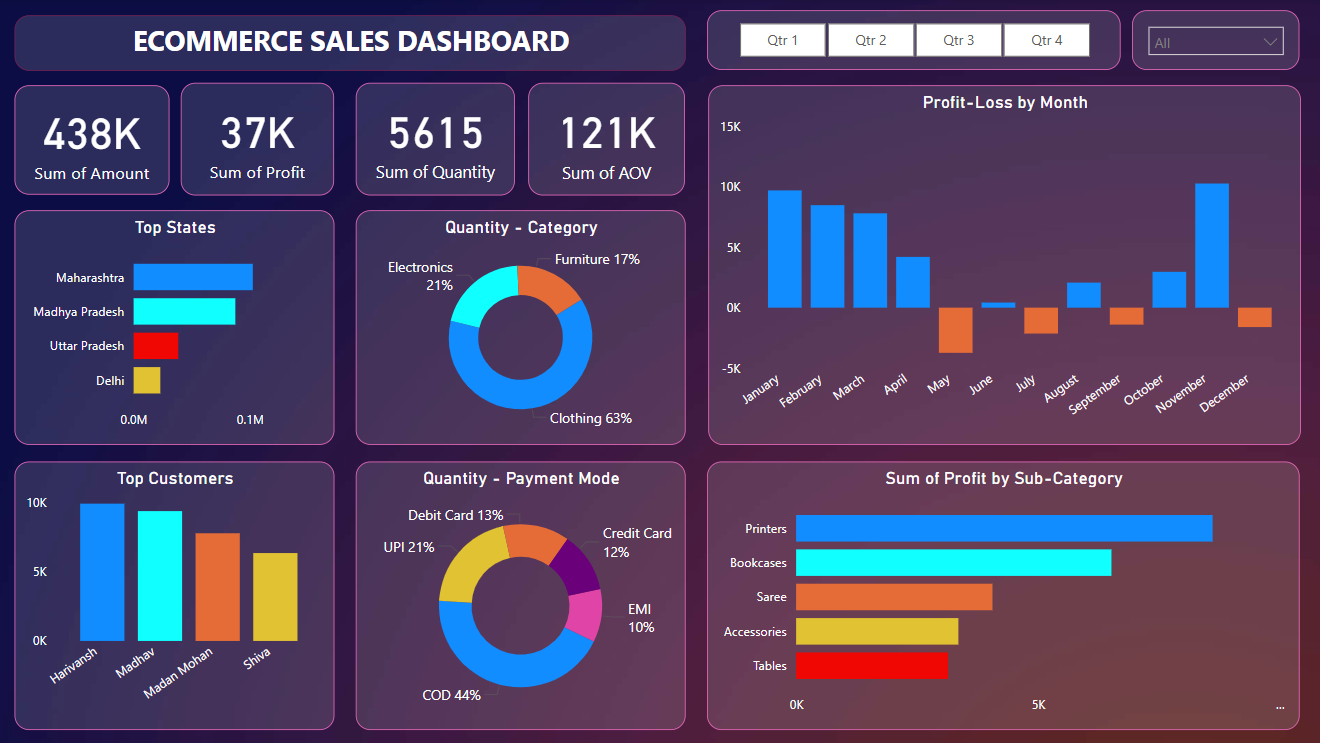

This screenshot's page, from the dashboard's own definition file:
{"tool":"powerbi","page":{"name":"Page 1","canvas":[1280,720],"ordinal":0},"visuals":[{"type":"textbox","title":"ECOMMERCE SALES DASHBOARD","box":[16.5,15.1,647.7,53.5],"z":0},{"type":"columnChart","title":"Profit-Loss by Month","fields":{"Y":["Sum(Details.Profit)"],"Category":["Orders.Order Date.Variation.Date Hierarchy.Month"]},"box":[686.1,83.7,572.2,347.2],"z":1000},{"type":"clusteredBarChart","fields":{"Category":["Details.Sub-Category"],"Y":["Sum(Details.Profit)"]},"box":[684.7,446,572.2,259.3],"z":2000},{"type":"donutChart","title":"Quantity - Category","fields":{"Y":["Sum(Details.Quantity)"],"Category":["Details.Category"]},"box":[345.8,204.5,318.4,226.4],"z":3000},{"type":"donutChart","title":"Quantity - Payment Mode","fields":{"Y":["Sum(Details.Quantity)"],"Category":["Details.PaymentMode"]},"box":[345.8,446,318.4,259.3],"z":4000},{"type":"card","fields":{"Values":["Sum(Details.Amount)"]},"box":[16.5,83.7,149.6,105.7],"z":5000},{"type":"card","fields":{"Values":["Sum(Details.Profit)"]},"box":[177,81,148.2,108.4],"z":6000},{"type":"card","fields":{"Values":["Sum(Details.Quantity)"]},"box":[345.8,81,153.7,108.4],"z":7000},{"type":"card","fields":{"Values":["Sum(Details.AOV)"]},"box":[513.2,81,150.9,108.4],"z":8000},{"type":"clusteredBarChart","title":"Top States","fields":{"Category":["Orders.State"],"Y":["Sum(Details.Amount)"]},"box":[16.5,204.5,308.7,226.4],"z":9000},{"type":"columnChart","title":"Top Customers","fields":{"Category":["Orders.CustomerName"],"Y":["Sum(Details.Amount)"]},"box":[16.5,446,308.7,259.3],"z":10000},{"type":"slicer","fields":{"Values":["Orders.Order Date.Variation.Date Hierarchy.Quarter"]},"box":[684.7,11,399.3,57.6],"z":10001},{"type":"slicer","fields":{"Values":["Orders.State"]},"box":[1095,11,161.9,57.6],"z":10002}]}

Visuals, with their boxes in screenshot pixels (x1, y1, x2, y2), scaled from the page's 1280x720 canvas onto the 1320x743 screenshot:
"ECOMMERCE SALES DASHBOARD" textbox: 17 16 685 71
"Profit-Loss by Month" columnChart: 708 86 1298 445
clusteredBarChart - Details.Sub-Category x Sum(Details.Profit): 706 460 1296 728
"Quantity - Category" donutChart: 357 211 685 445
"Quantity - Payment Mode" donutChart: 357 460 685 728
card - Sum(Details.Amount): 17 86 171 195
card - Sum(Details.Profit): 183 84 335 195
card - Sum(Details.Quantity): 357 84 515 195
card - Sum(Details.AOV): 529 84 685 195
"Top States" clusteredBarChart: 17 211 335 445
"Top Customers" columnChart: 17 460 335 728
slicer - Orders.Order Date.Variation.Date Hierarchy.Quarter: 706 11 1118 71
slicer - Orders.State: 1129 11 1296 71
